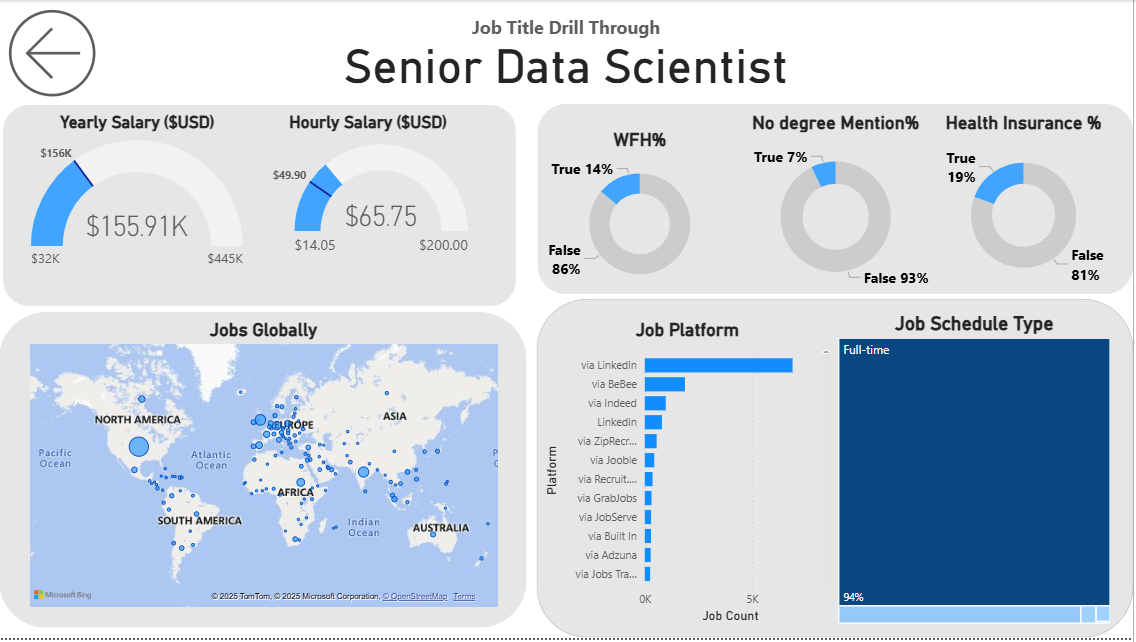

This screenshot's page, from the dashboard's own definition file:
{"tool":"powerbi","page":{"name":"Job Title Drill Through","canvas":[1280,720],"ordinal":1},"visuals":[{"type":"group","id":"g1","title":"Background","box":[0,117.5,1280,602.2],"z":0},{"type":"cardVisual","fields":{"Data":["Min(job_postings_flat.job_title_short)1"]},"box":[325.8,0,628.3,107.2],"z":1000},{"type":"actionButton","box":[0,0,146.2,120.2],"z":2000},{"type":"shape","box":[4.9,118.3,578.8,226.6],"z":2000,"group":"g1"},{"type":"shape","box":[607.7,117.5,672.3,214.5],"z":3000,"group":"g1"},{"type":"gauge","title":"Yearly Salary ($USD)","fields":{"MinValue":["Min(job_postings_flat.salary_year_avg)"],"MaxValue":["Max(job_postings_flat.salary_year_avg)"],"Y":["Avg(job_postings_flat.salary_year_avg)"],"TargetValue":["Median(job_postings_flat.salary_year_avg)"]},"box":[31,127.2,264.1,190.8],"z":3000},{"type":"gauge","title":"Hourly Salary ($USD)","fields":{"MinValue":["Min(job_postings_flat.salary_hour_avg)"],"MaxValue":["Max(job_postings_flat.salary_hour_avg)"],"Y":["Avg(job_postings_flat.salary_hour_avg)"],"TargetValue":["Median(job_postings_flat.salary_hour_avg)"]},"box":[298.4,127.2,251.1,190.8],"z":4000},{"type":"shape","box":[0,352.5,595.3,356.1],"z":4000,"group":"g1"},{"type":"donutChart","title":"WFH%","fields":{"Category":["job_postings_flat.job_work_from_home"],"Y":["CountNonNull(job_postings_flat.job_work_from_home)"]},"box":[611.9,146.7,221.7,190.4],"z":5000},{"type":"shape","box":[606.3,337.5,673.7,382.2],"z":5000,"group":"g1"},{"type":"donutChart","title":"Health Insurance %","fields":{"Category":["job_postings_flat.job_health_insurance"],"Y":["CountNonNull(job_postings_flat.job_title_short)"]},"box":[1055,127.2,203.8,210.3],"z":6000},{"type":"donutChart","title":"No degree Mention%","fields":{"Category":["job_postings_flat.job_no_degree_mention"],"Y":["CountNonNull(job_postings_flat.job_no_degree_mention)"]},"box":[833.2,127.2,221.8,213.6],"z":7000},{"type":"map","title":"Jobs Globally","fields":{"Category":["job_postings_flat.job_country"],"Size":["CountNonNull(job_postings_flat.job_title_short)"]},"box":[30.2,360.2,537.6,330],"z":8000},{"type":"treemap","title":"Job Schedule Type","fields":{"Group":["job_postings_flat.job_schedule_type"],"Values":["CountNonNull(job_postings_flat.job_schedule_type)"]},"box":[943.1,352,316.2,356.1],"z":9000},{"type":"barChart","title":"Job Platform","fields":{"Category":["job_postings_flat.job_via"],"Y":["CountNonNull(job_postings_flat.job_title_short)"]},"box":[611.8,360.2,331.3,347.8],"z":10000}]}

Visuals, with their boxes in screenshot pixels (x1, y1, x2, y2), scaled from the page's 1280x720 canvas onto the 1136x642 screenshot:
"Background" group: (0, 105, 1135, 641)
cardVisual - Min(job_postings_flat.job_title_short)1: (289, 0, 847, 96)
actionButton: (0, 0, 130, 107)
shape: (4, 105, 518, 308)
shape: (539, 105, 1135, 296)
"Yearly Salary ($USD)" gauge: (28, 113, 262, 284)
"Hourly Salary ($USD)" gauge: (265, 113, 488, 284)
shape: (0, 314, 528, 632)
"WFH%" donutChart: (543, 131, 740, 301)
shape: (538, 301, 1135, 641)
"Health Insurance %" donutChart: (936, 113, 1117, 301)
"No degree Mention%" donutChart: (739, 113, 936, 304)
"Jobs Globally" map: (27, 321, 504, 615)
"Job Schedule Type" treemap: (837, 314, 1118, 631)
"Job Platform" barChart: (543, 321, 837, 631)
